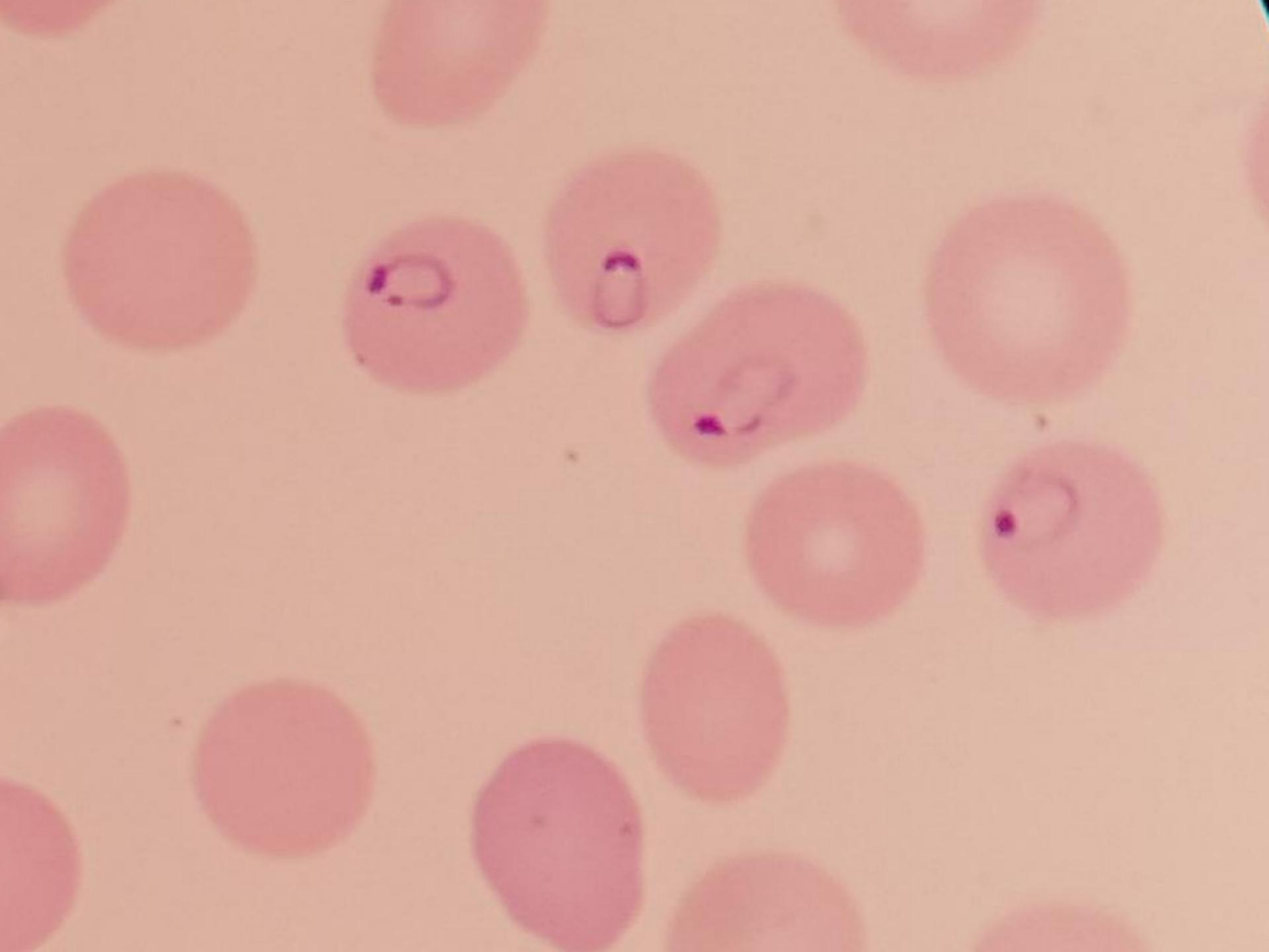Infected: (637, 276, 865, 469), (339, 210, 533, 404), (978, 435, 1165, 620), (544, 142, 724, 334)
Uninfected: (923, 192, 1131, 406), (187, 679, 382, 864), (57, 175, 256, 356), (469, 743, 637, 952), (0, 399, 125, 624), (749, 465, 911, 633), (646, 613, 784, 810), (366, 0, 539, 135)
